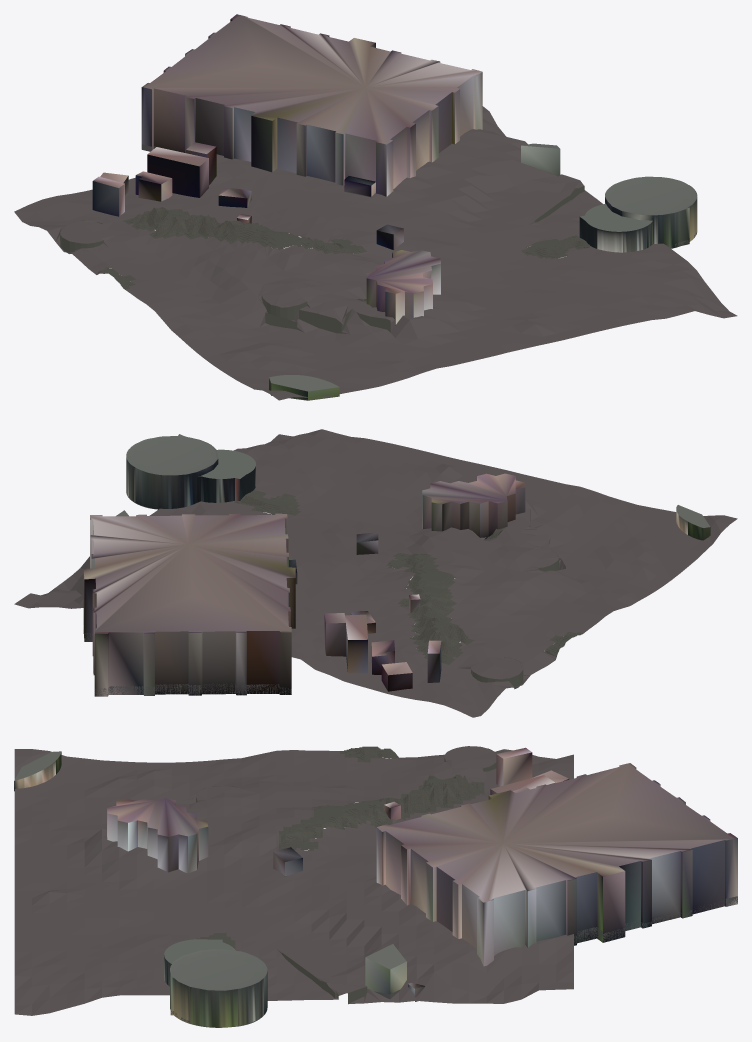
3 renders of one model, top to bottom at view 1: azimuth 30°, elevation 25°; view 2: azimuth 150°, elevation 25°; view 3: azimuth 270°, elevation 25°, orthographic. The views are drawn at different scales.
Visible parts, largest first — view 1: c_m05_m17; view 2: c_m05_m17; view 3: c_m05_m17.
Boxes of the visible parts, bbox=[...] form: c_m05_m17: bbox=[14, 14, 737, 400]; c_m05_m17: bbox=[14, 429, 737, 717]; c_m05_m17: bbox=[14, 746, 737, 1027].
Size of the model in its own units: 142 by 25.26 by 166.
